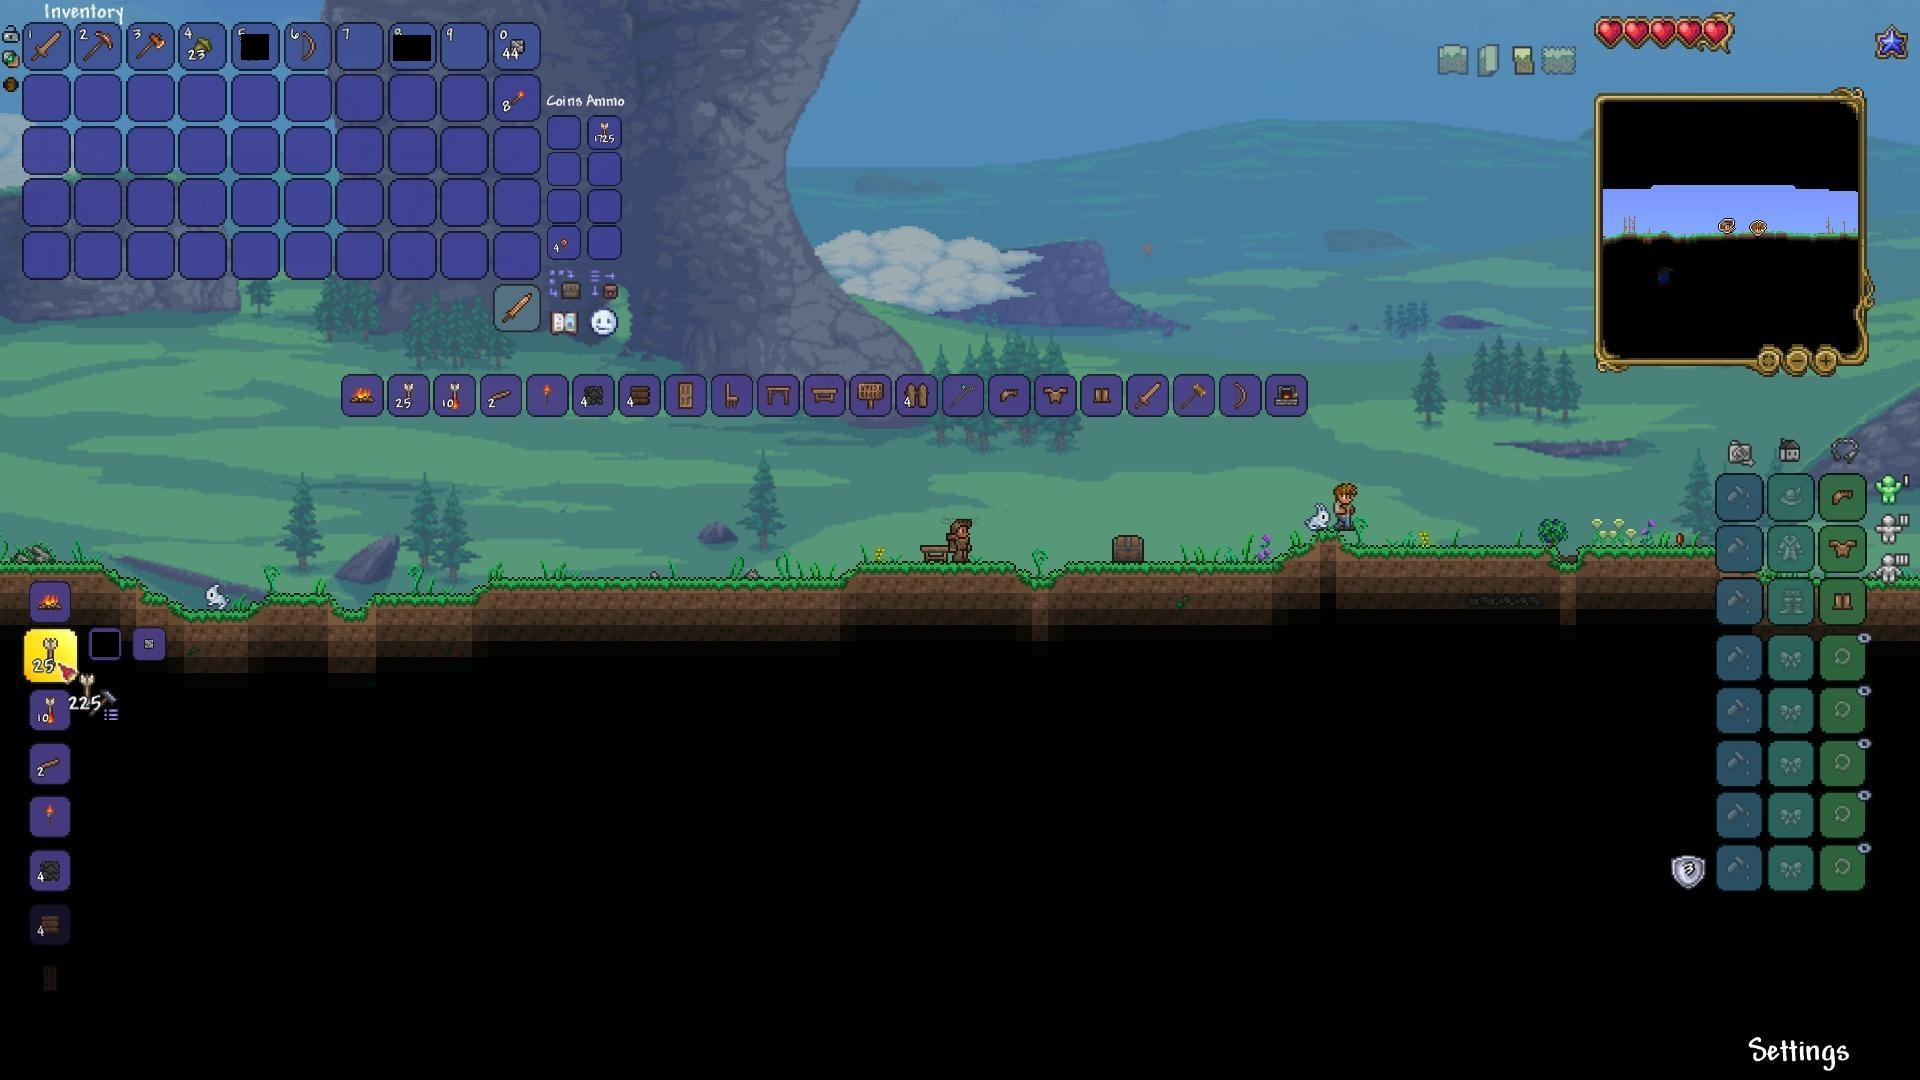breastplate: (1039, 385, 1069, 406), (1829, 538, 1859, 559)
helmet: (1828, 483, 1859, 512), (994, 382, 1025, 410)
legs: (1091, 381, 1116, 409), (1832, 588, 1855, 617)
workbench: (807, 382, 844, 407), (918, 539, 955, 564)
